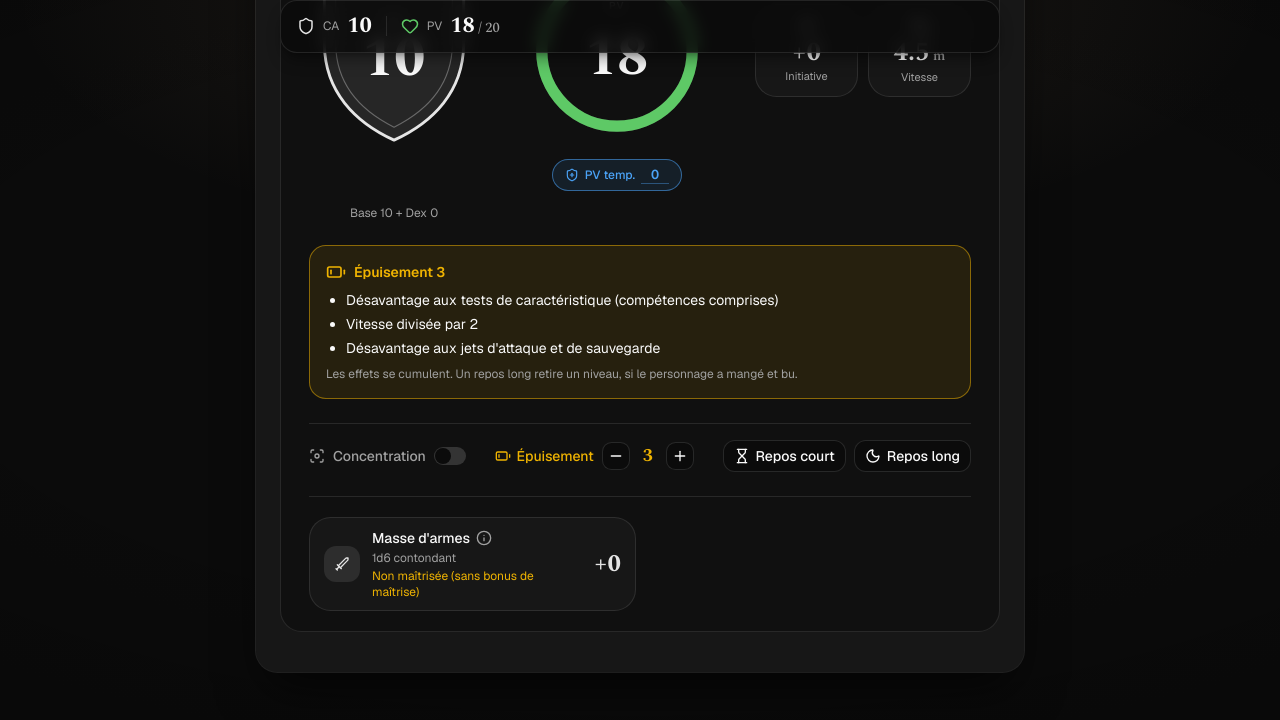
Épuisement (mode jeu) › pre-selects disadvantage for attacks from level 3
(page scrolled)
Click the button named "Détails : Masse d'armes" at point(472, 564), box 310,518 -> 635,610
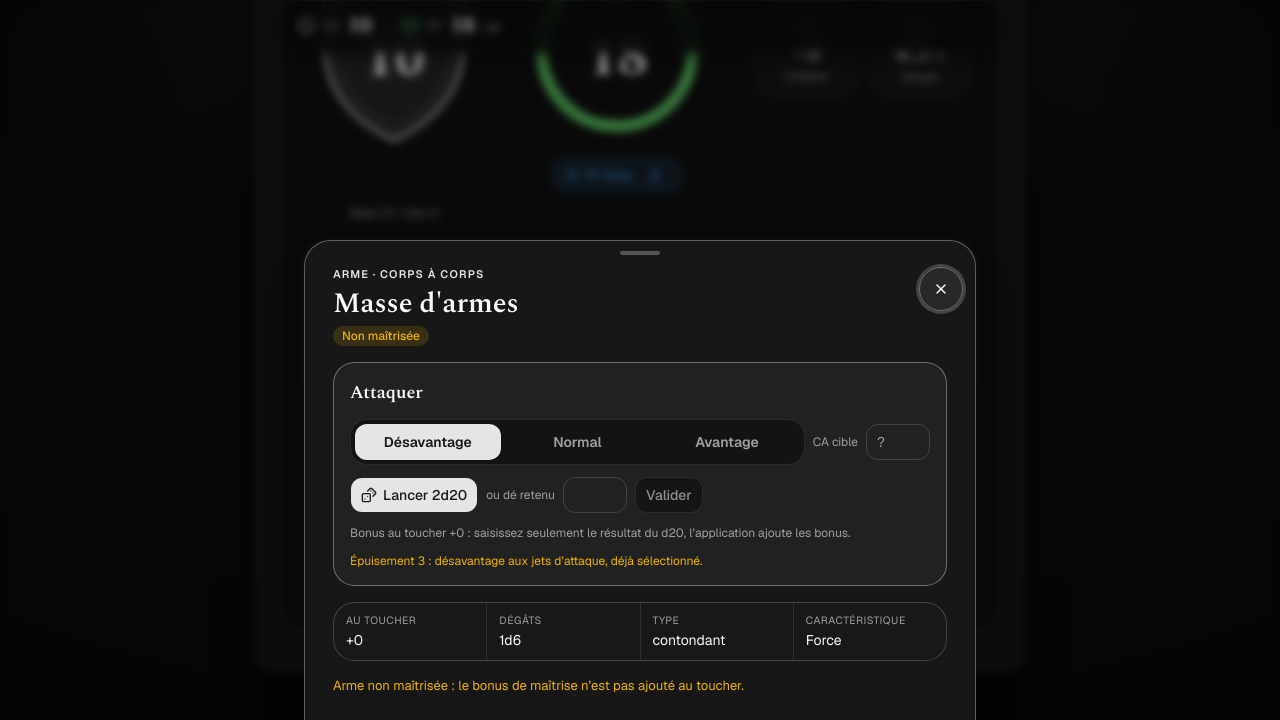
Expected: the radio button labelled "Désavantage" is checked, 355,424 -> 501,460
Expected: the text "Épuisement 3 : désavantage aux jets d’attaque" is shown, 350,553 -> 702,569
